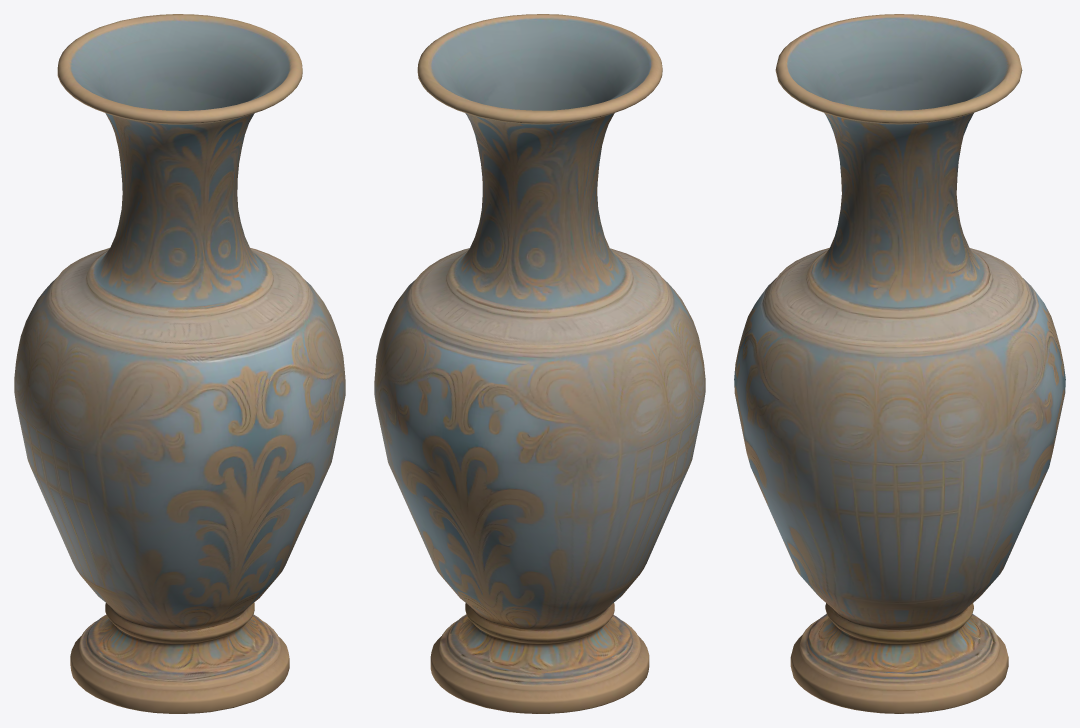
The model's file is fancy_vase_everyday_realistic_style_828f3c92_v1.glb.
3 renders of one model, left to right at view 1: azimuth 30°, elevation 25°; view 2: azimuth 150°, elevation 25°; view 3: azimuth 270°, elevation 25°, orthographic.
Parts seen in each view (by area): view 1: mesh_input; view 2: mesh_input; view 3: mesh_input.
Part boxes in pixels (x1,y1,x2,y2): mesh_input: [14, 14, 345, 713]; mesh_input: [374, 14, 705, 713]; mesh_input: [734, 14, 1065, 713].
Bounding box in the file's own units: 0.9336 × 1.9 × 0.9375.
1 material, 1 textured.
